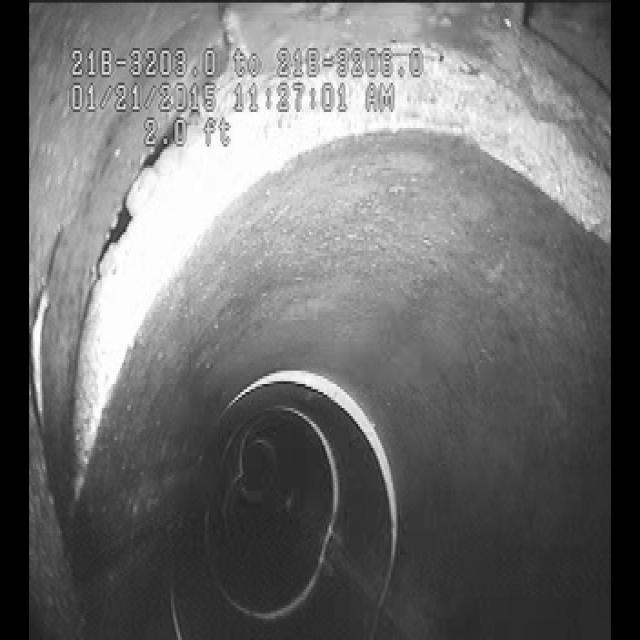Fracture: (68, 165, 154, 415)
